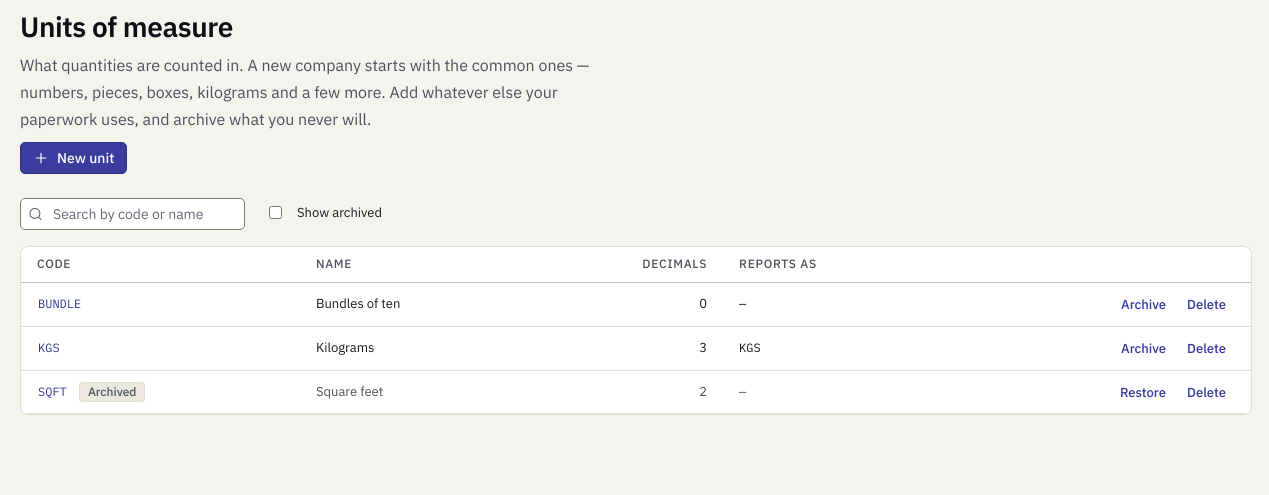
Test: the list › says so when a search matches nothing
This screenshot has width=1269, height=495.
Check: the button "KGS" is shown, box 29,335 -> 69,362
Type "zzz" into the field with placeholder "Search by code or name" at (132, 214), box 20,198 -> 245,230
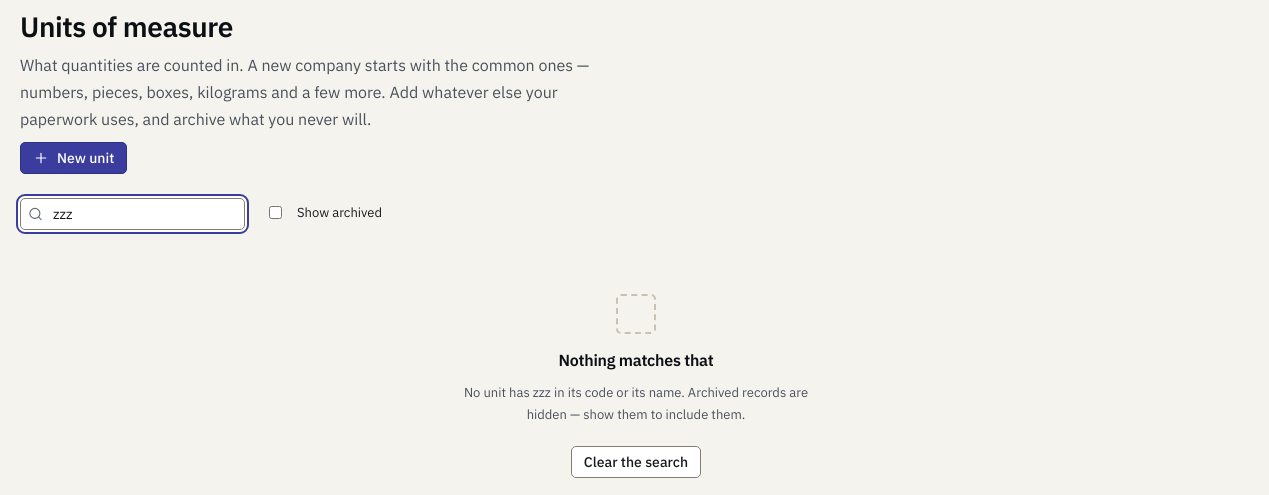
Check: the heading "Nothing matches that" is shown, box 558,350 -> 713,370
